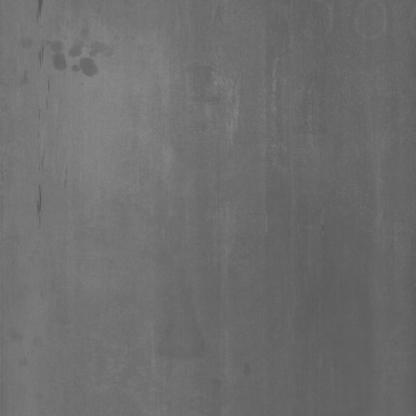water_spot: (35, 23, 118, 100)
